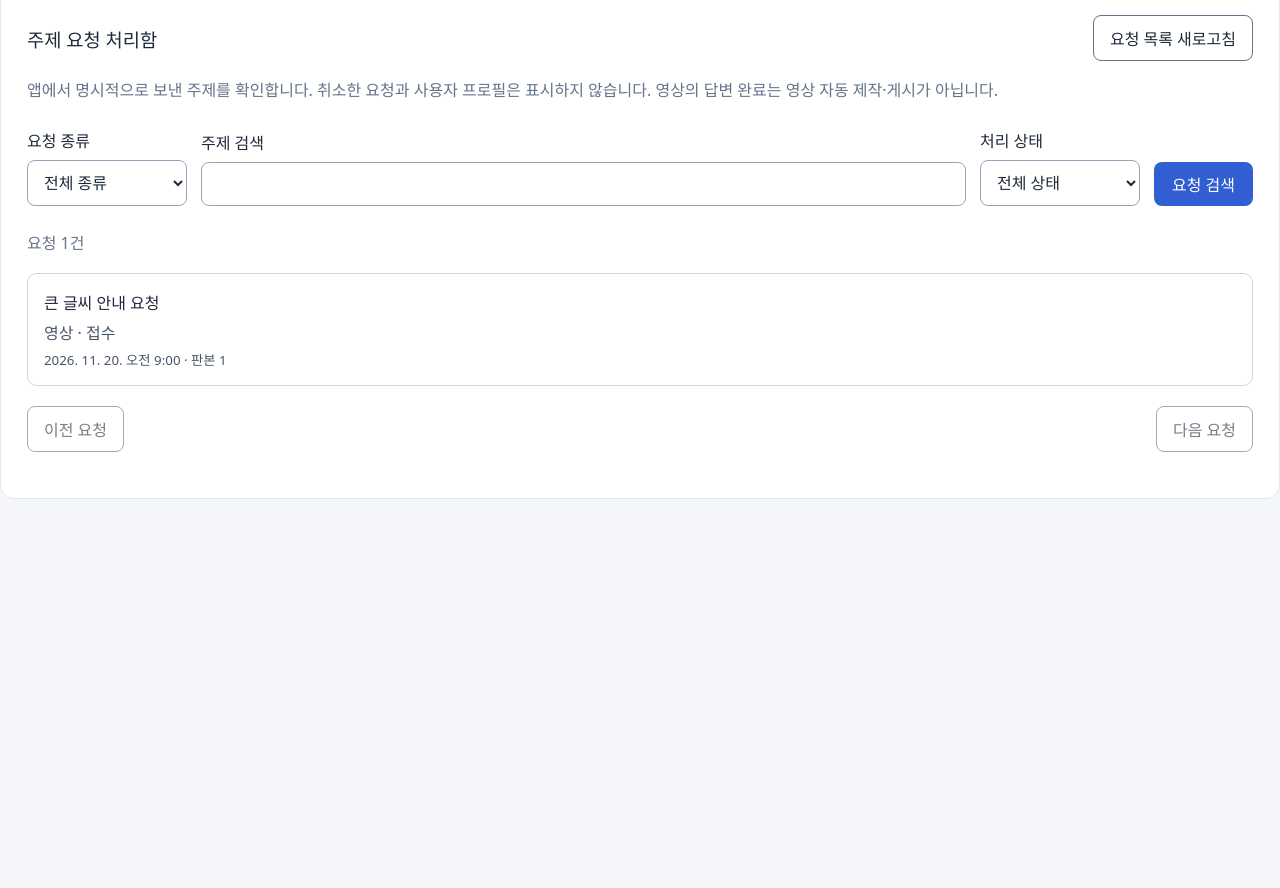
Scenario: 영상 요청은 가이드 없이 답변하고 제작 완료라고 표시하지 않는다
Step 1. Click the button "큰 글씨 안내 요청" → point(102, 303), box [27,273,1253,386]
(page scrolled)
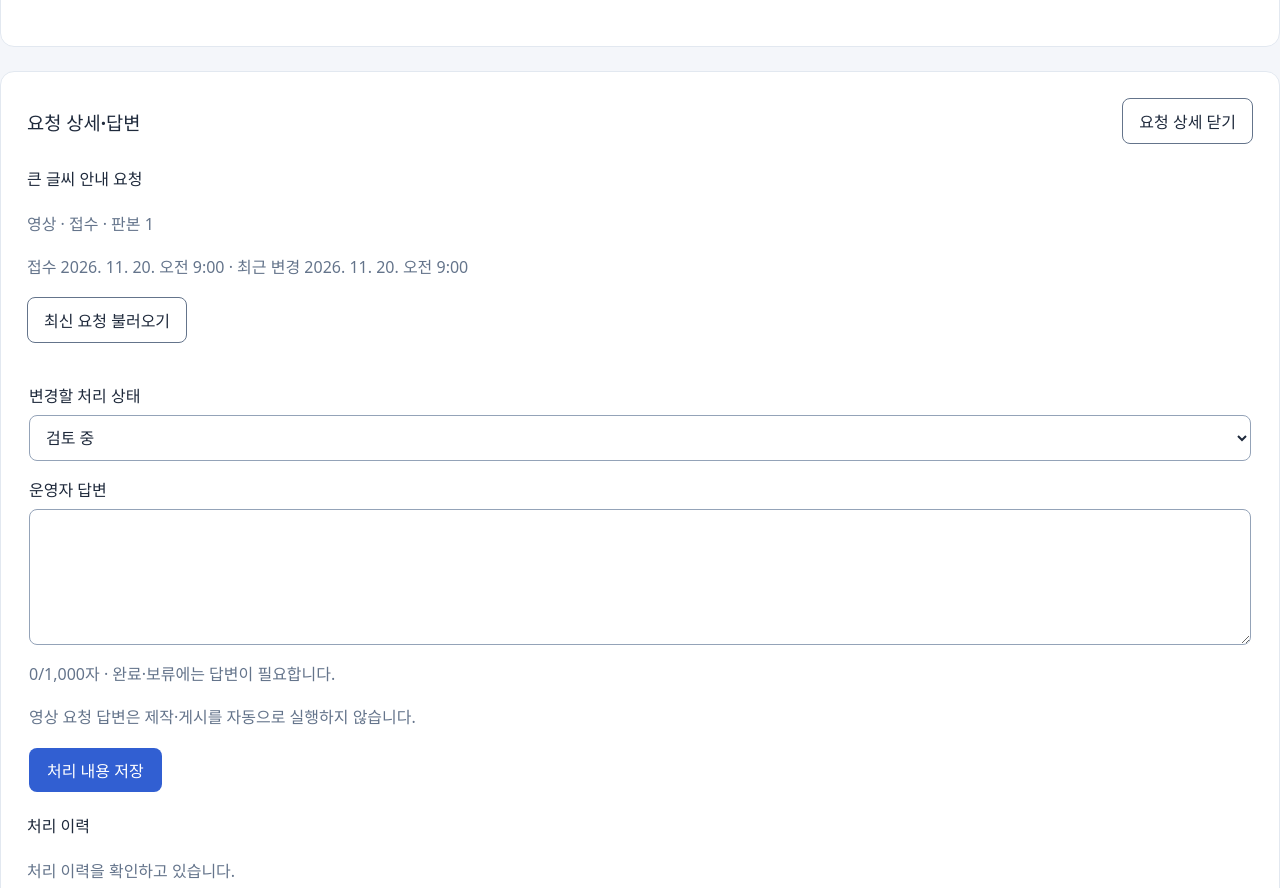
Check: the text box labelled "운영자 답변" is shown, box [29,509,1251,645]
Step 2. Select "답변 완료" in the dropdown labelled "변경할 처리 상태" → point(640, 438), box [29,415,1251,461]
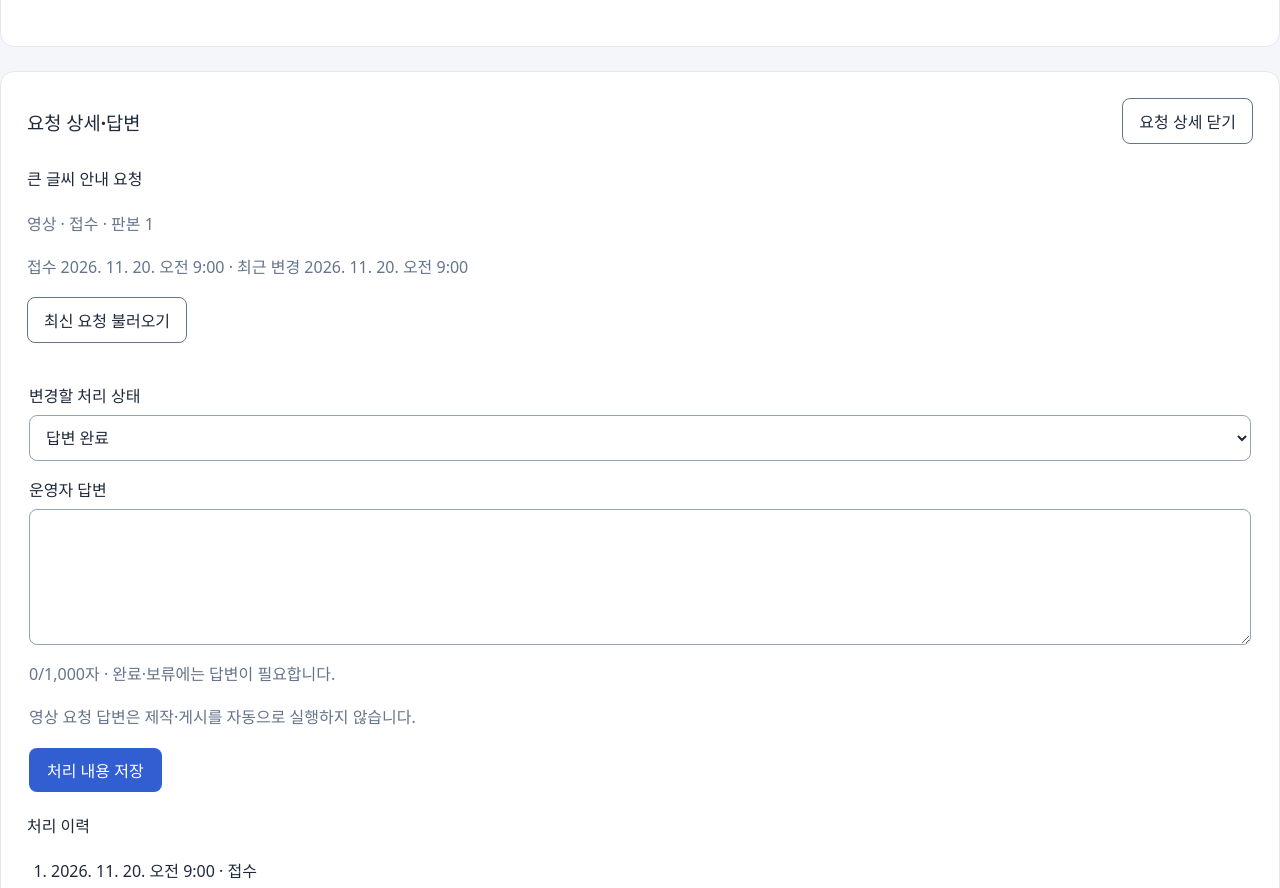
Step 3. Type "제안한 주제를 검토했습니다." into the text box labelled "운영자 답변" → point(640, 577), box [29,509,1251,645]
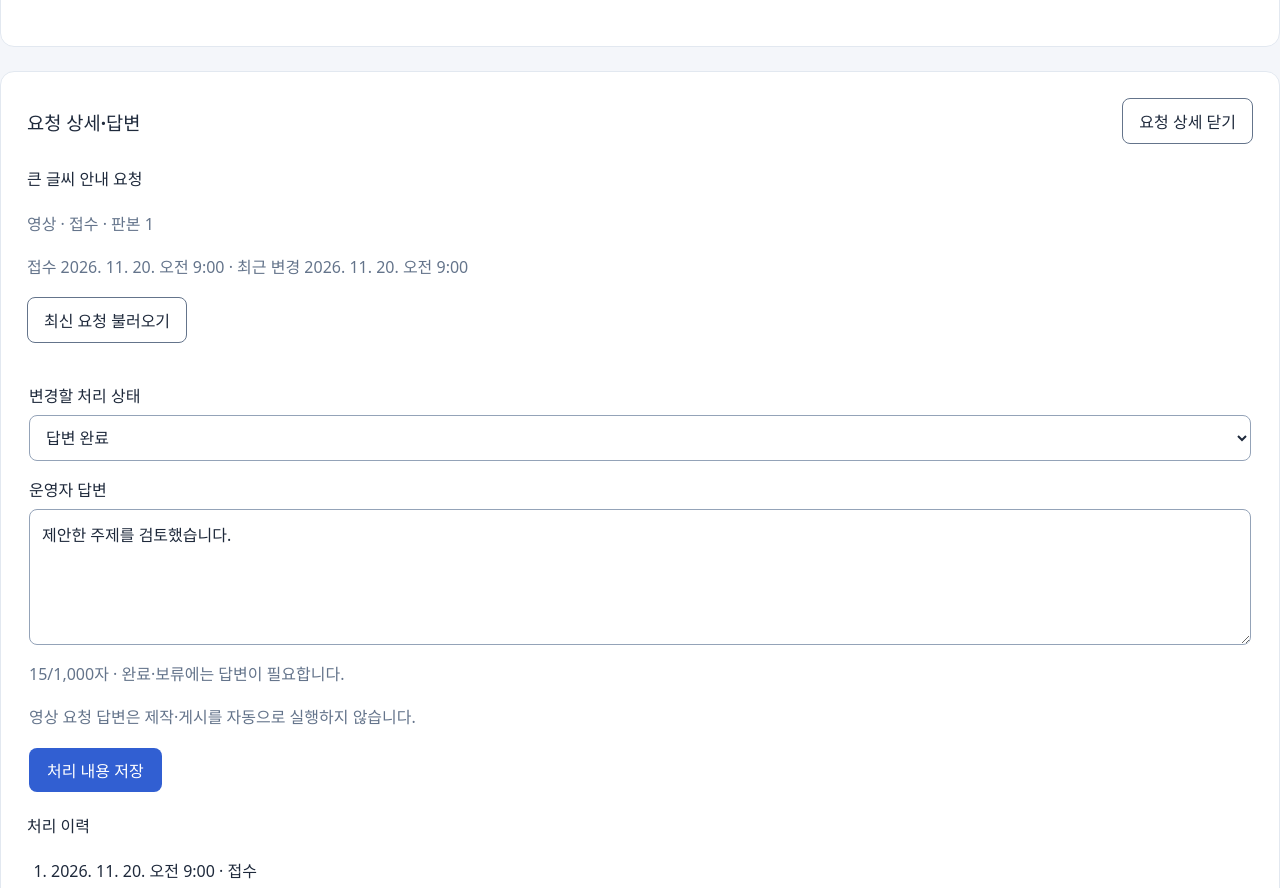
Check: the text "영상 요청 답변은 제작·게시를 자동으로 실행하지 않습니다." is shown, box [29,706,416,728]
Step 4. Click the button "처리 내용 저장" → point(95, 770), box [29,748,162,792]
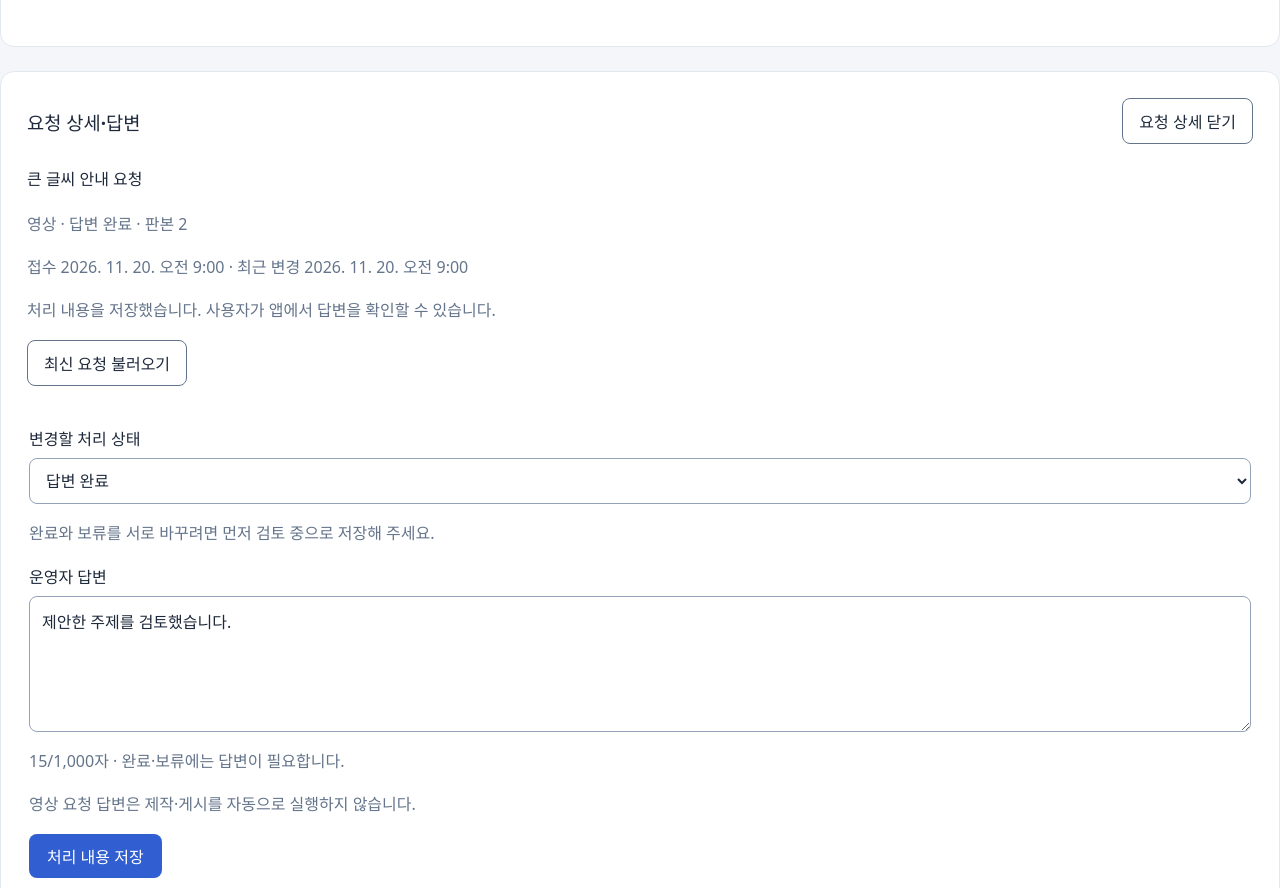
Check: the text "처리 내용을 저장했습니다. 사용자가 앱에서 답변을 확인할 수 있습니다." is shown, box [27,299,496,321]
